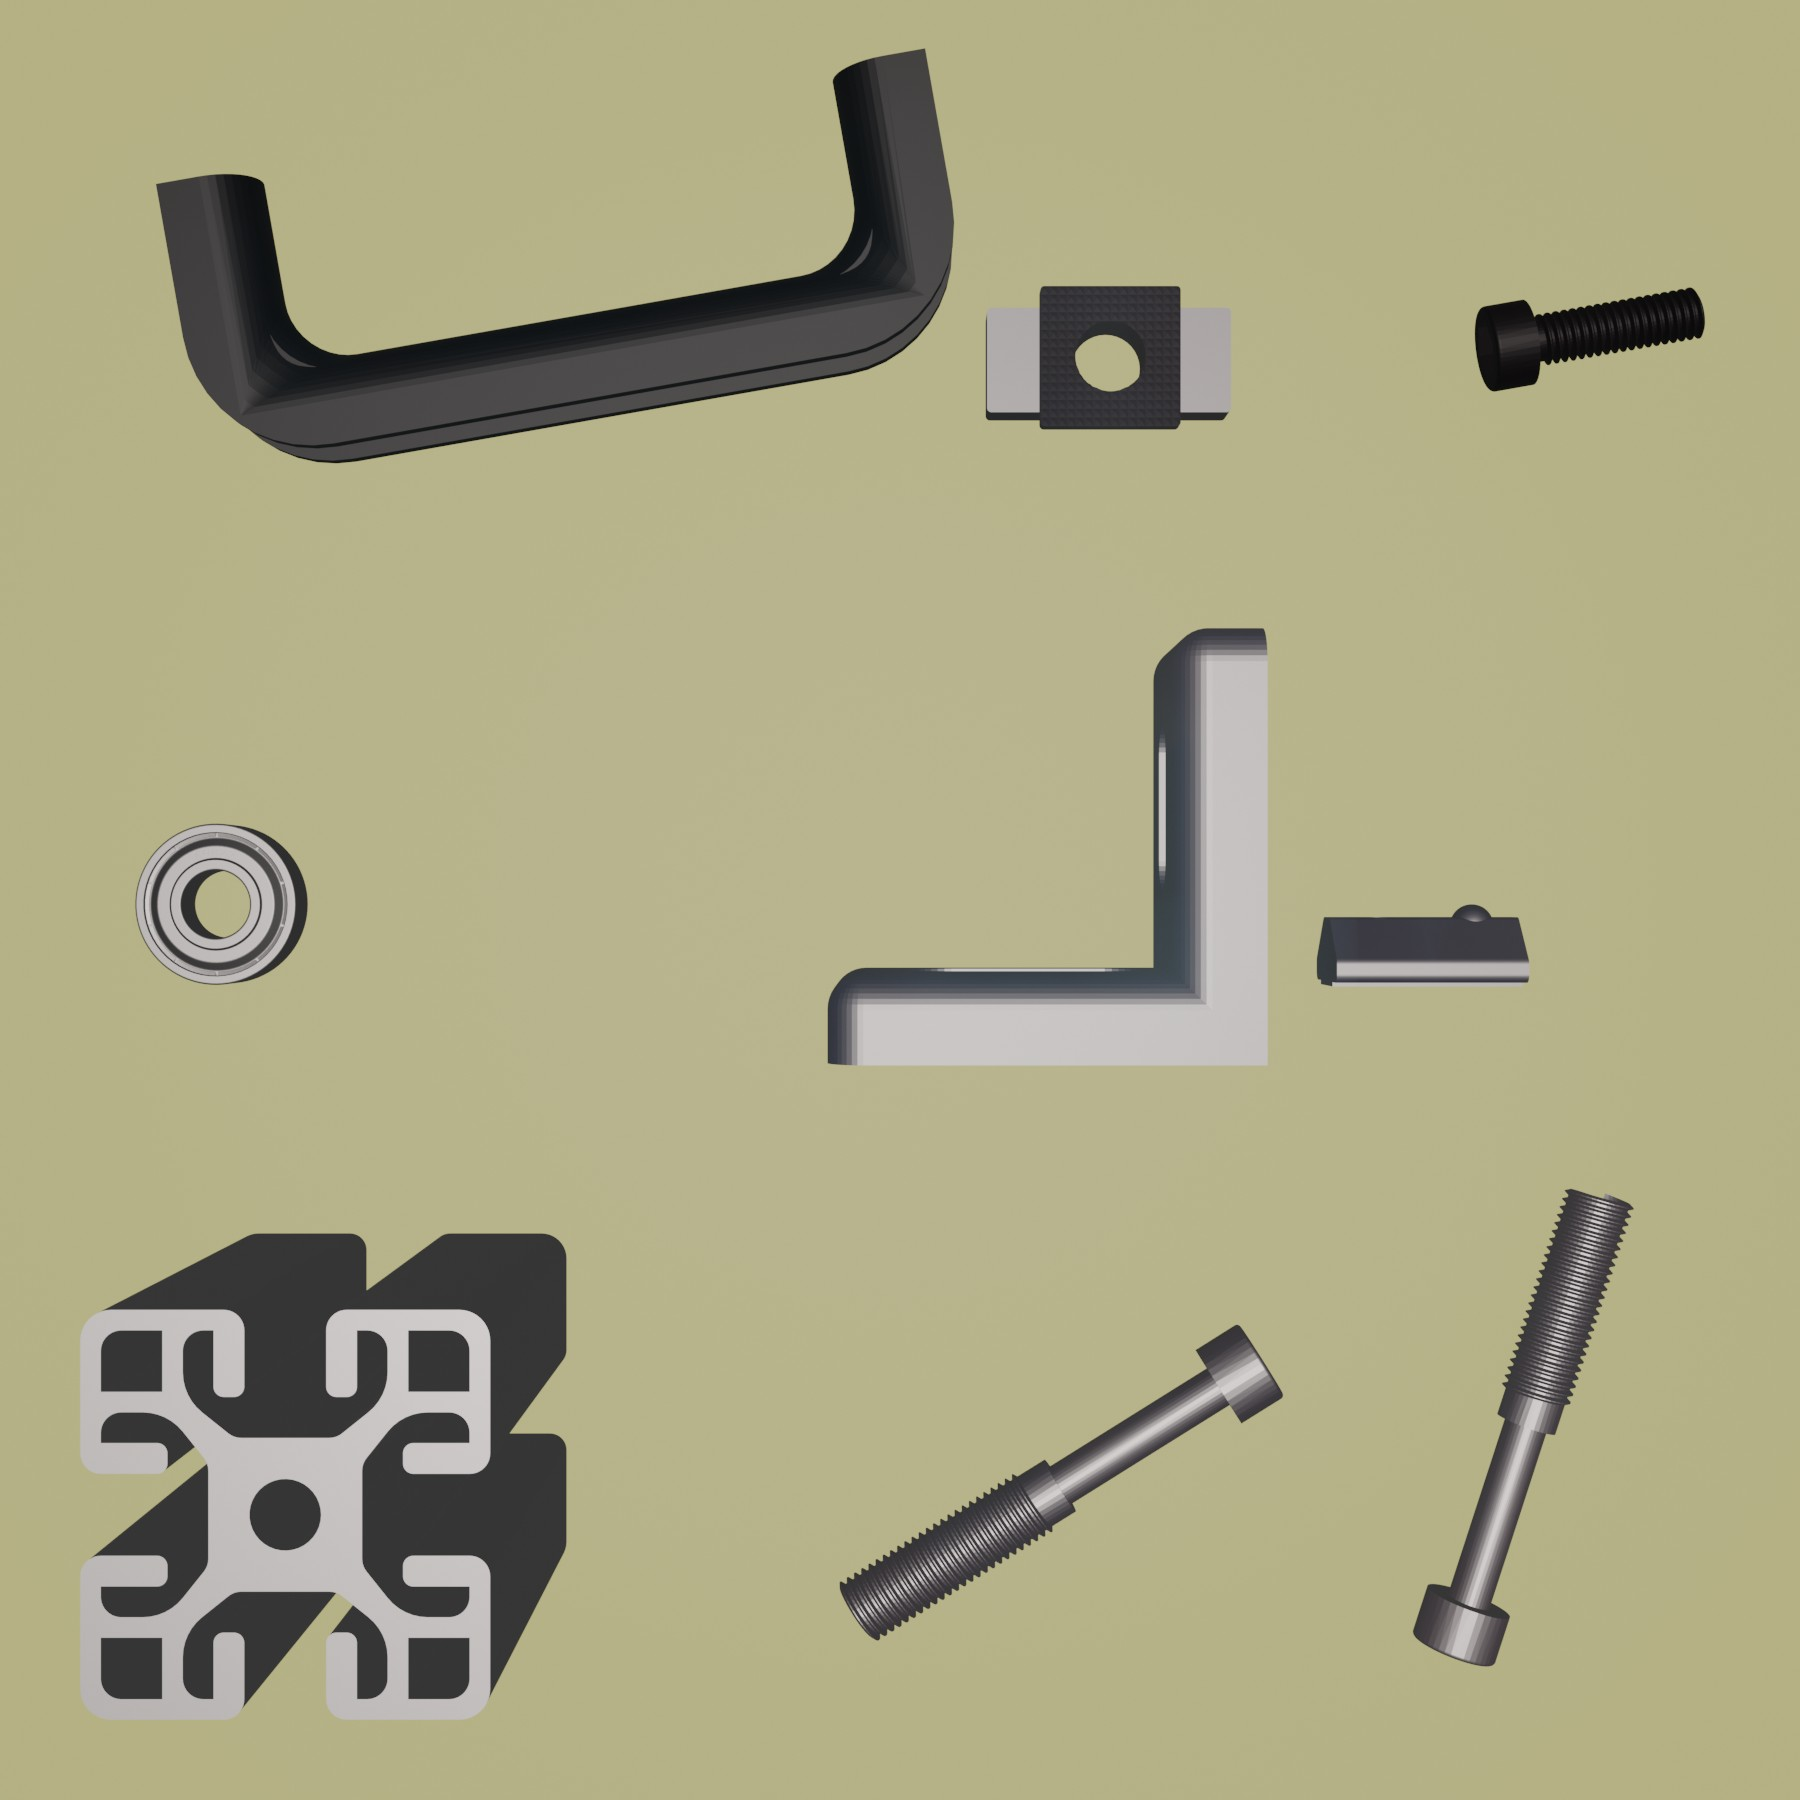Aluminium Extension: (74, 1226, 575, 1731)
Ball Bearing: (132, 819, 308, 987)
Multiwinkel: (819, 625, 1277, 1071)
Pull Handle: (152, 45, 959, 468)
Shoulder Socket Head Cap Screw: (836, 1319, 1286, 1643), (1408, 1185, 1635, 1668)
Socket Head Cap Screw: (1474, 284, 1708, 396)
T Nut Square: (977, 280, 1235, 434)
T Spring Nut: (1314, 897, 1538, 992)
